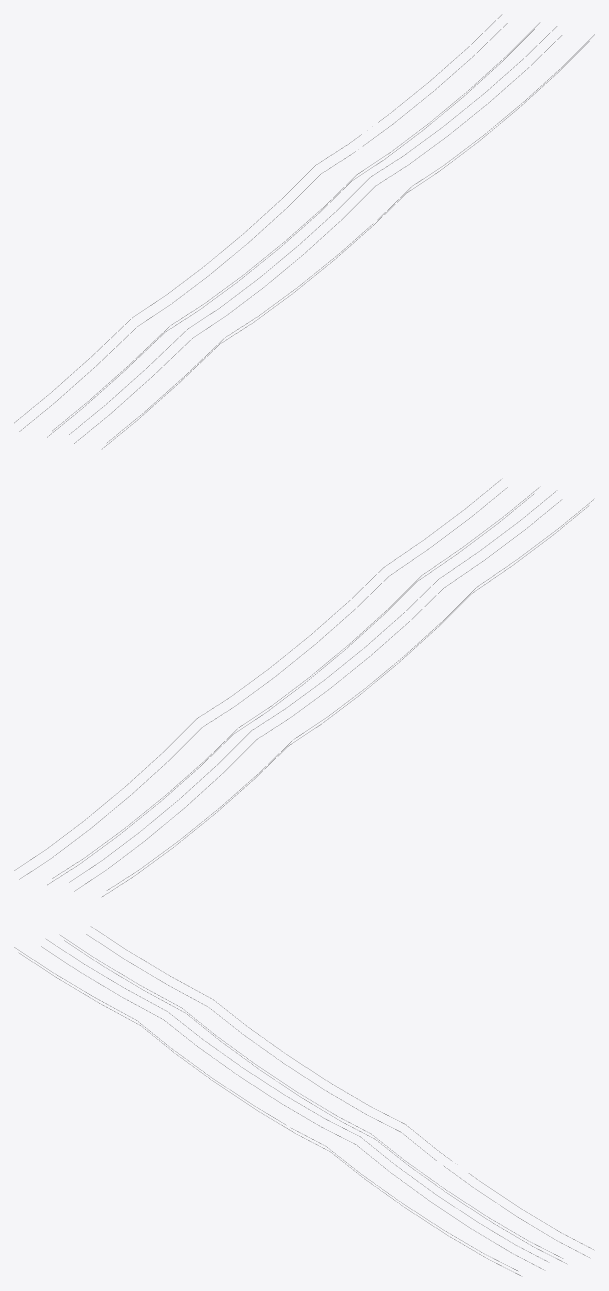
Rendered from Wires.obj.
The picture shows the model from 3 angles, top to bottom: view 1: azimuth 30°, elevation 25°; view 2: azimuth 210°, elevation 25°; view 3: azimuth 270°, elevation 25°; orthographic projection. The views are drawn at different scales.
Visible parts, largest first — view 1: Wires; view 2: Wires; view 3: Wires.
Part boxes in pixels (x1,y1,x2,y2): Wires: (14,15,594,448); Wires: (14,480,593,896); Wires: (14,927,593,1275).
Size of the model in its own units: 69.74 by 1.32 by 48.61.
1 material, 1 textured.
